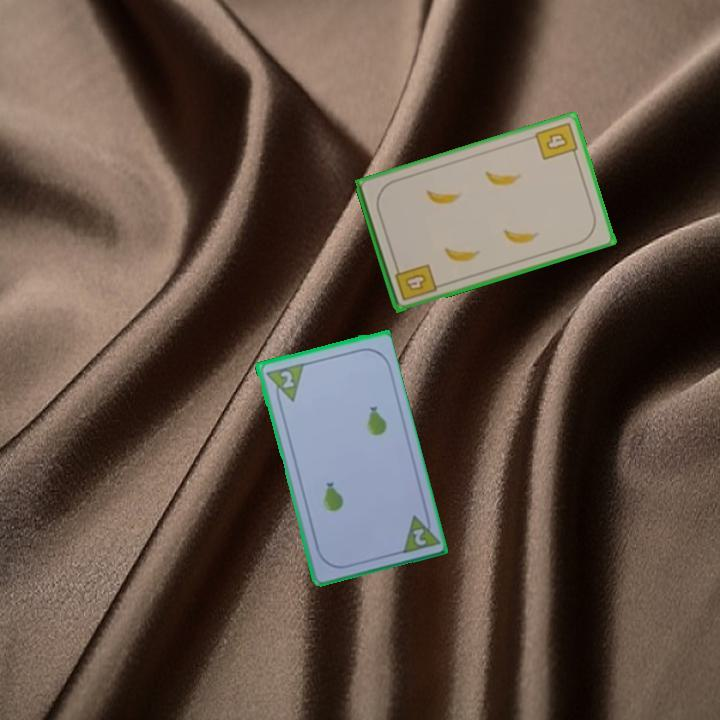2p: (397, 507, 441, 557), (261, 359, 306, 407)
4b: (532, 118, 581, 163), (391, 260, 439, 304)
